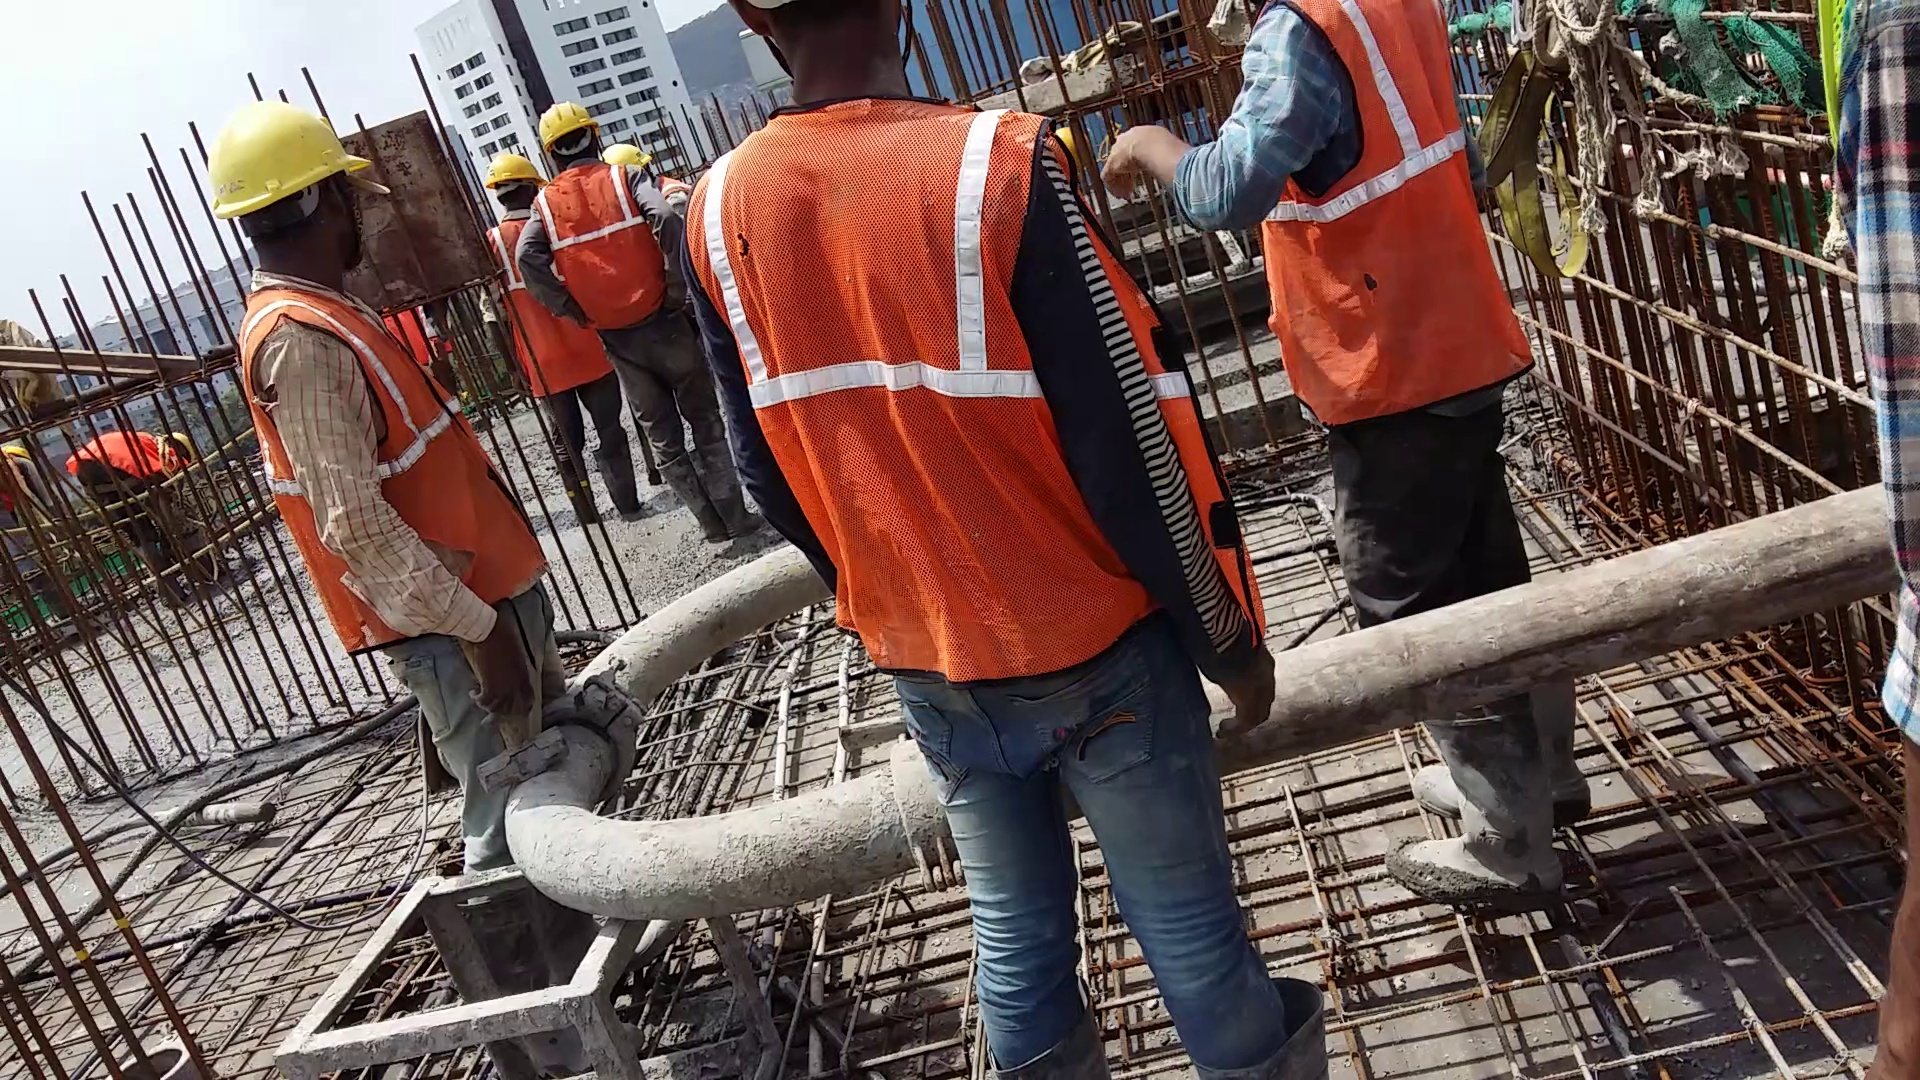SAFE: (232, 94, 460, 647), (521, 98, 700, 430)
